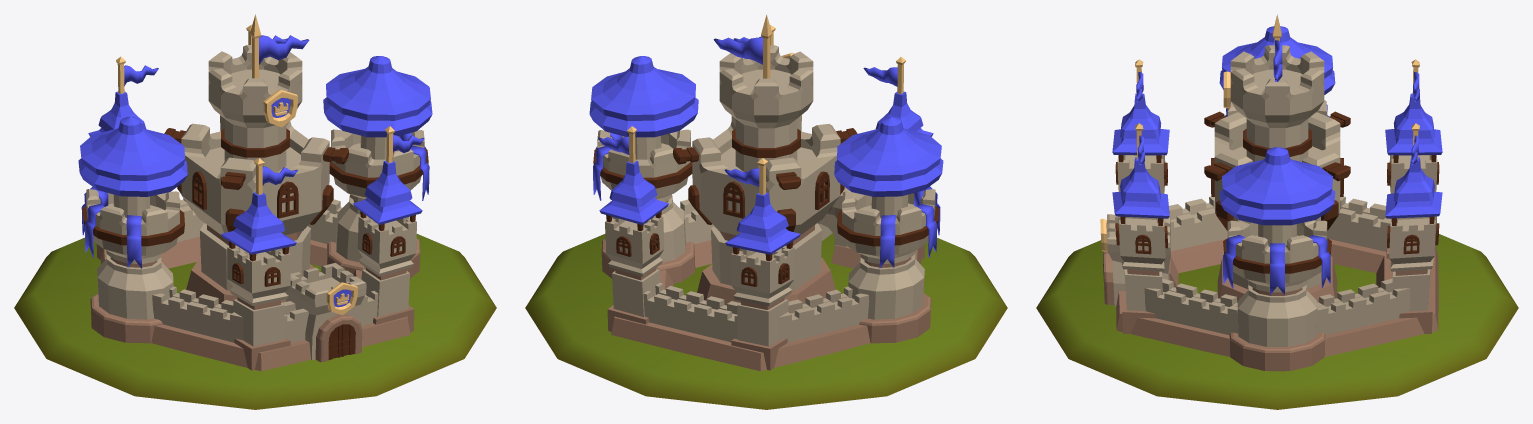
File: castle.glb
The picture shows the model from 3 angles, left to right: view 1: azimuth 30°, elevation 25°; view 2: azimuth 150°, elevation 25°; view 3: azimuth 270°, elevation 25°; orthographic projection.
Visible parts, largest first — view 1: Circle; view 2: Circle; view 3: Circle.
Part boxes in pixels (x1,y1,x2,y2): Circle: (14,14,496,409); Circle: (525,14,1007,409); Circle: (1036,14,1518,409).
Size of the model in its own units: 10.64 by 7.15 by 10.64.
6 materials, 1 textured.
